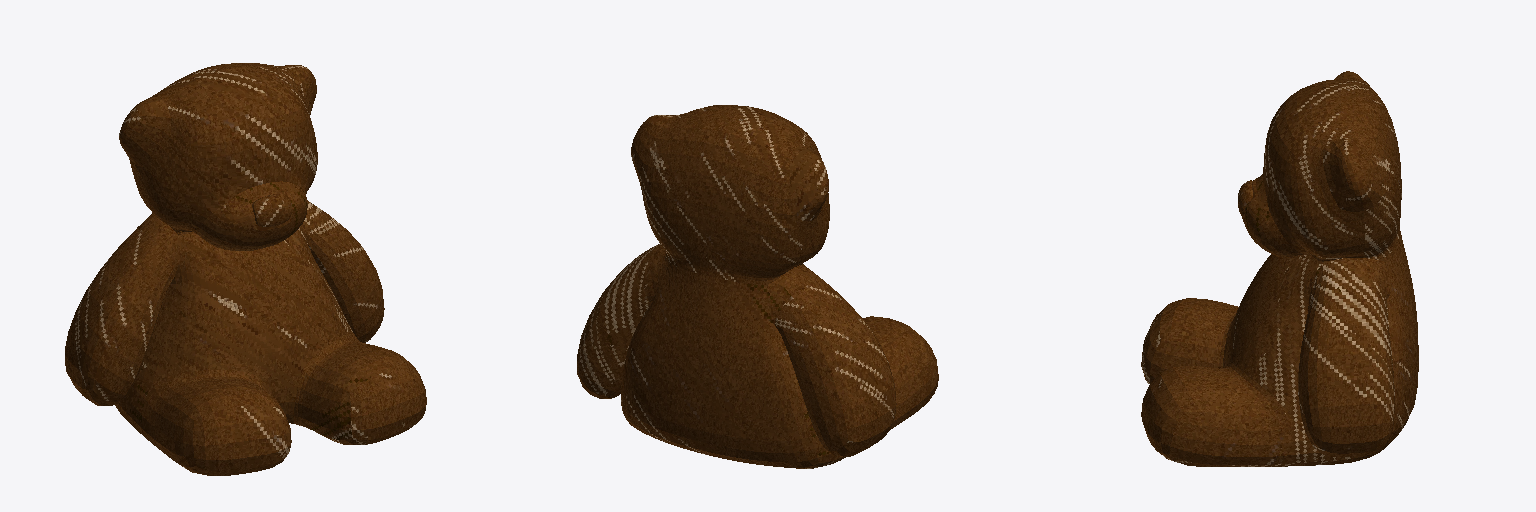
3 views of the same model, side by side, from view 1: azimuth 30°, elevation 25°; view 2: azimuth 150°, elevation 25°; view 3: azimuth 270°, elevation 25° (orthographic).
Parts seen in each view (by area): view 1: Material; view 2: Material; view 3: Material.
Part boxes in pixels (bbox=[...]): Material: bbox=[65, 63, 426, 475]; Material: bbox=[577, 105, 938, 468]; Material: bbox=[1141, 71, 1418, 466].
Size of the model in its own units: 419 by 440 by 337.
Materials: 1 (1 with a texture image).